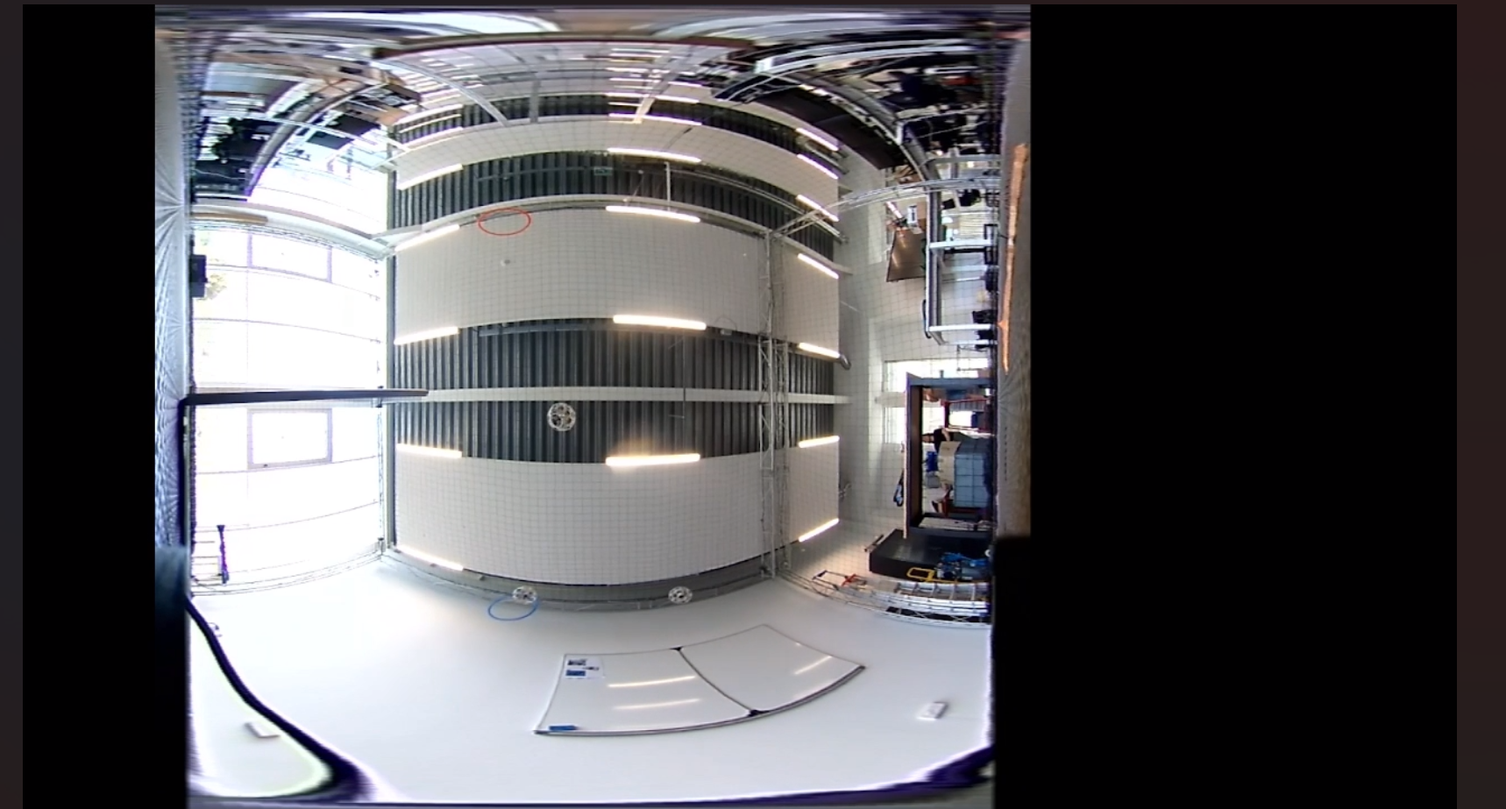Drone: (546, 402, 577, 432), (667, 585, 693, 606), (511, 586, 537, 605)
